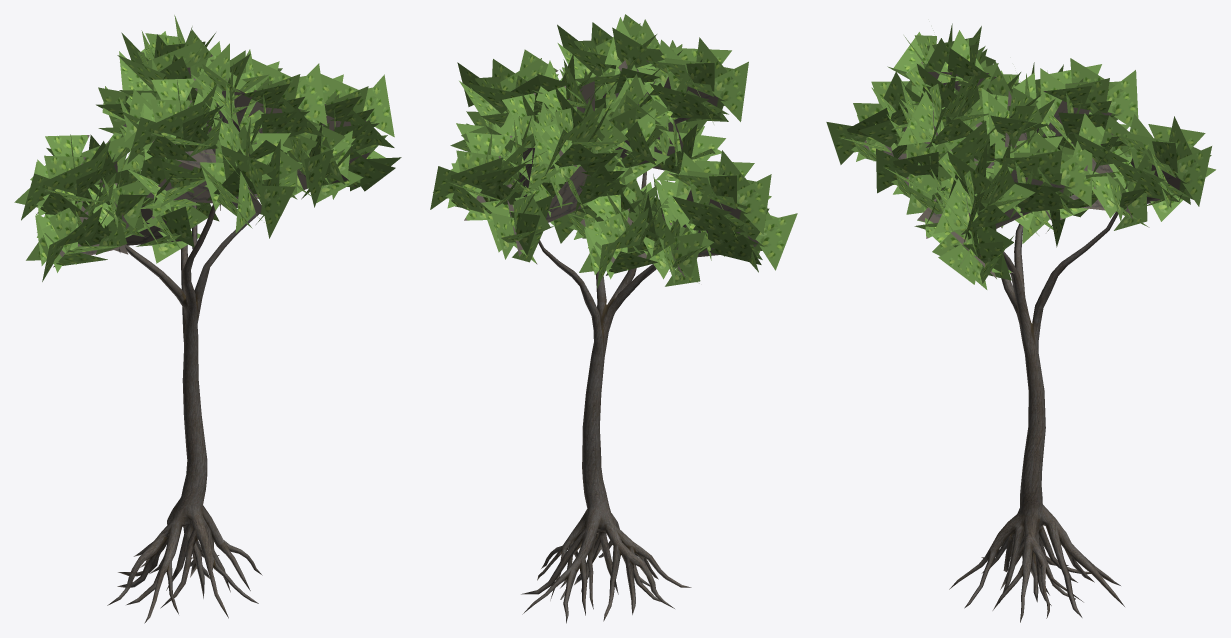
Rendered from Tree1.fbx.
The picture shows the model from 3 angles, left to right: view 1: azimuth 30°, elevation 25°; view 2: azimuth 150°, elevation 25°; view 3: azimuth 270°, elevation 25°; orthographic projection. The views are drawn at different scales.
Visible parts, largest first — view 1: SM_cmn_mount_MangroveTree_01a; view 2: SM_cmn_mount_MangroveTree_01a; view 3: SM_cmn_mount_MangroveTree_01a.
Boxes of the visible parts, box(x1,y1,x2,y2) form: SM_cmn_mount_MangroveTree_01a: box(14, 15, 401, 623); SM_cmn_mount_MangroveTree_01a: box(430, 14, 797, 623); SM_cmn_mount_MangroveTree_01a: box(826, 23, 1215, 622).
Size of the model in its own units: 744 by 1130 by 721.
